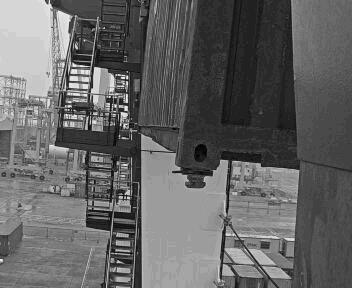twist_lock_1: (184, 165, 229, 197)
